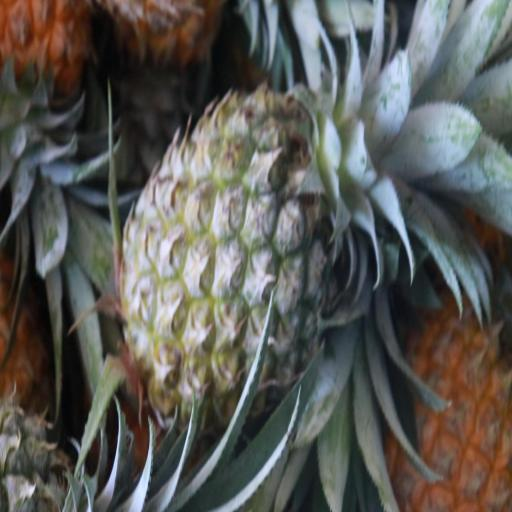------------------------------: (122, 92, 346, 424)
Pineapple - v8 v1: (388, 236, 512, 512)
